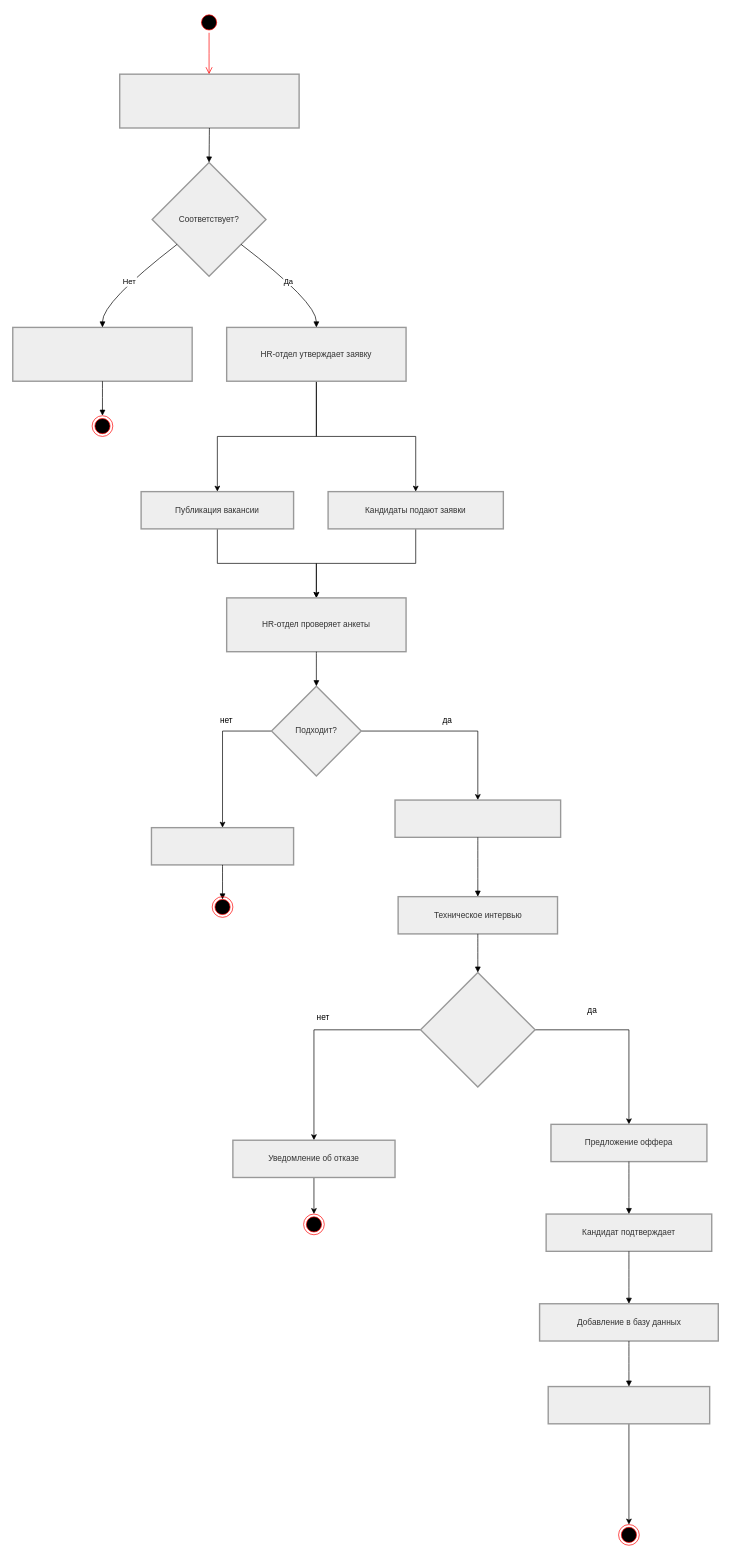
This 731x1557 diagram has some shape labels left out. Here are the shapes that lost their labels. From the top down, the centre of each, then its label:
At [209,100]: "Руководитель создает заявку".
At [102,354]: "Уведомление руководителя".
At [477,818]: "Первичное интервью HR".
At [222,846]: "Отклонение анкеты".
At [477,1029]: "Оба пройдены?".
At [628,1405]: "Уведомление IT-отдела".
